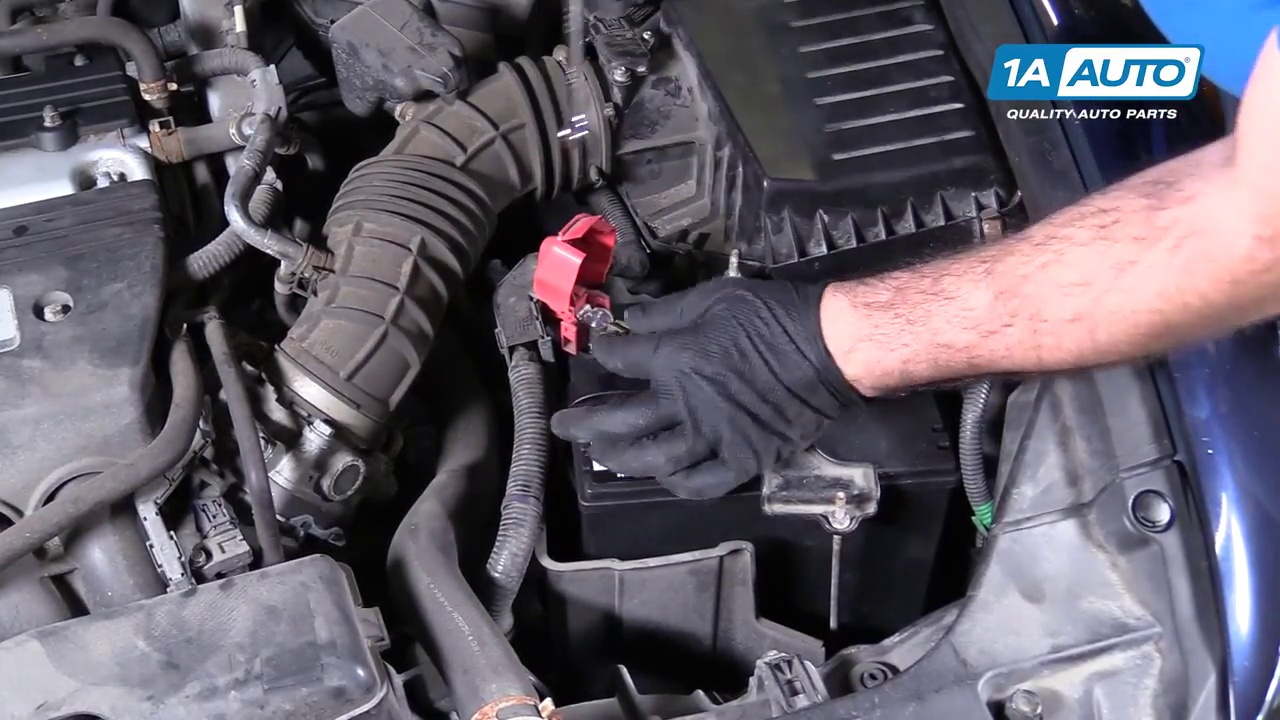battery: (533, 300, 992, 504)
pos_touched: (525, 211, 696, 393)
